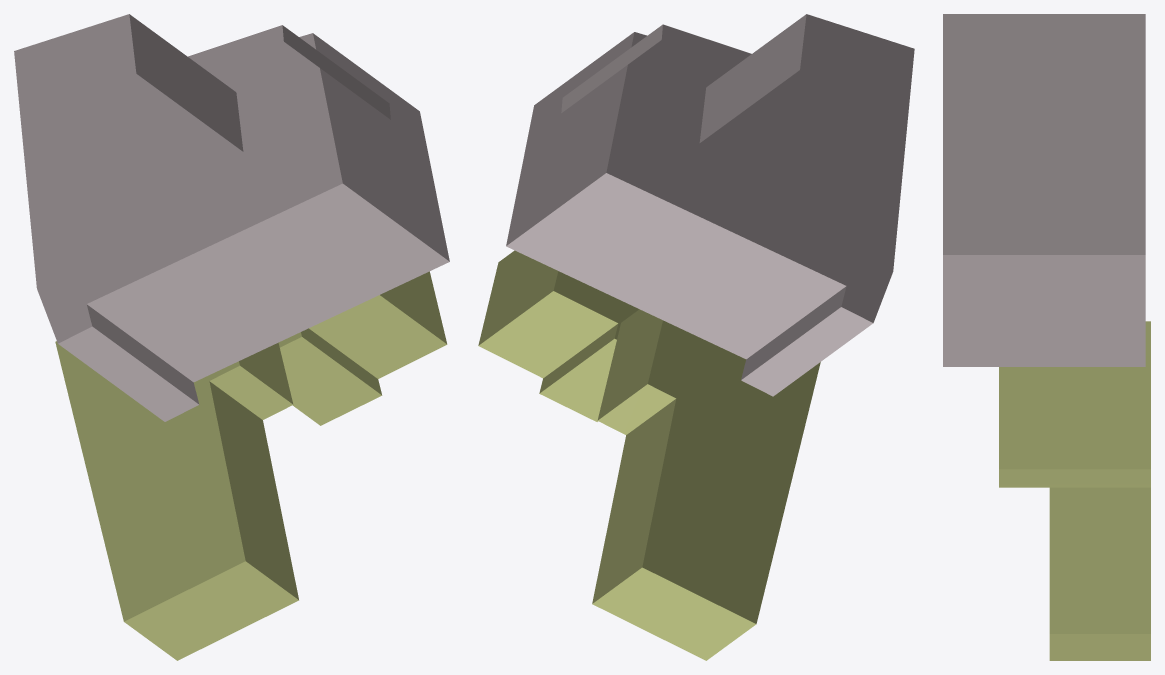
3 views of the same model, side by side, from view 1: azimuth 30°, elevation 25°; view 2: azimuth 150°, elevation 25°; view 3: azimuth 270°, elevation 25° (orthographic). The views are drawn at different scales.
Parts seen in each view (by area): view 1: 0_1_0_2_1_3_2_1_1; view 2: 0_1_0_2_1_3_2_1_1; view 3: 0_1_0_2_1_3_2_1_1.
Boxes of the visible parts, <box> form: 0_1_0_2_1_3_2_1_1: <box>14,14,449,660</box>; 0_1_0_2_1_3_2_1_1: <box>478,14,914,660</box>; 0_1_0_2_1_3_2_1_1: <box>943,14,1150,660</box>.
Size of the model in its own units: 23.02 by 37.67 by 12.3.
